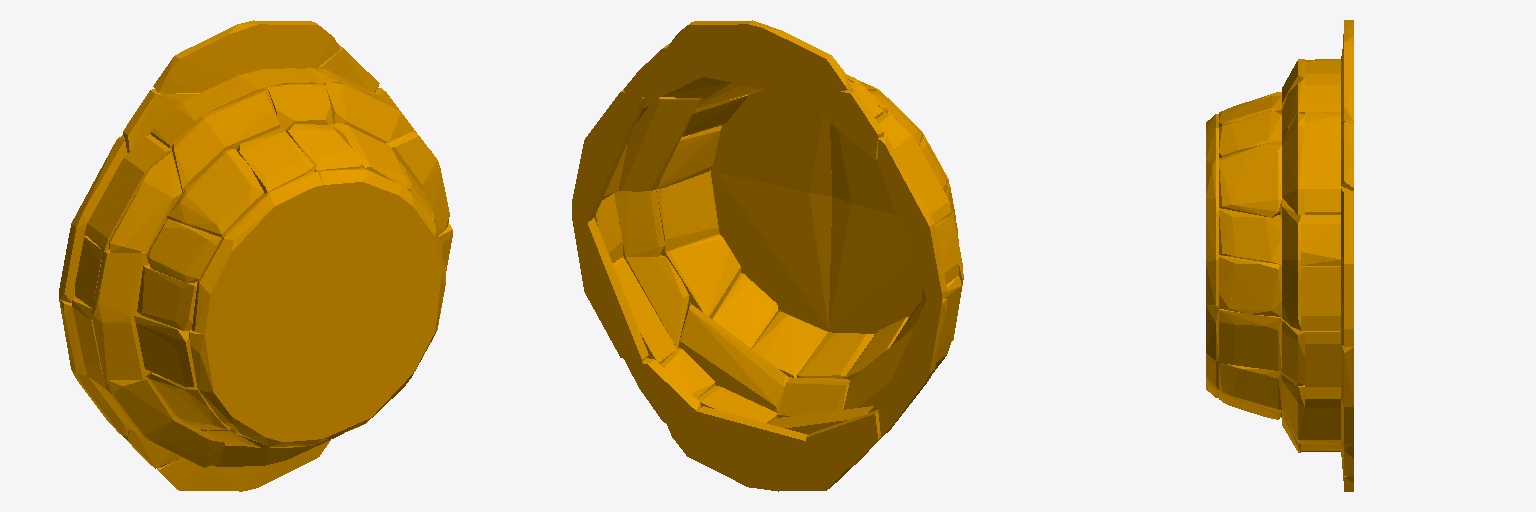
robot.urdf — red_bowl:
<?xml version="1.0"?>

<robot name="red_bowl">
  <link name="red_bowl_frame">
    <visual>
      <origin xyz="0.0 0.0 0.1" rpy="0.0 0.0 0.0"/>
      <geometry>
        <mesh filename="package://iai_kitchen/meshes/racks/BoxyToolholder/red_bowl.obj"/>
      </geometry>
    </visual>
  </link>
</robot>

--- Facts derived from the render (not from the file) ---
3 views of the same robot in one strip: view 1: azimuth 30°, elevation 25°; view 2: azimuth 150°, elevation 25°; view 3: azimuth 270°, elevation 25° (orthographic).
Model red_bowl with 1 links and 0 joints (none), rooted at red_bowl_frame, posed all joints at 0.
Visible links, largest first — view 1: red_bowl_frame; view 2: red_bowl_frame; view 3: red_bowl_frame.
Boxes of the visible links, bbox=[...] form: red_bowl_frame: bbox=[59, 20, 452, 491]; red_bowl_frame: bbox=[572, 20, 963, 491]; red_bowl_frame: bbox=[1206, 20, 1353, 491].
Size in the robot's own frame: 0.282 by 0.104 by 0.3375 metres.
Meshes: 1 distinct files referenced, 1 mesh visuals loaded (1 OBJ).